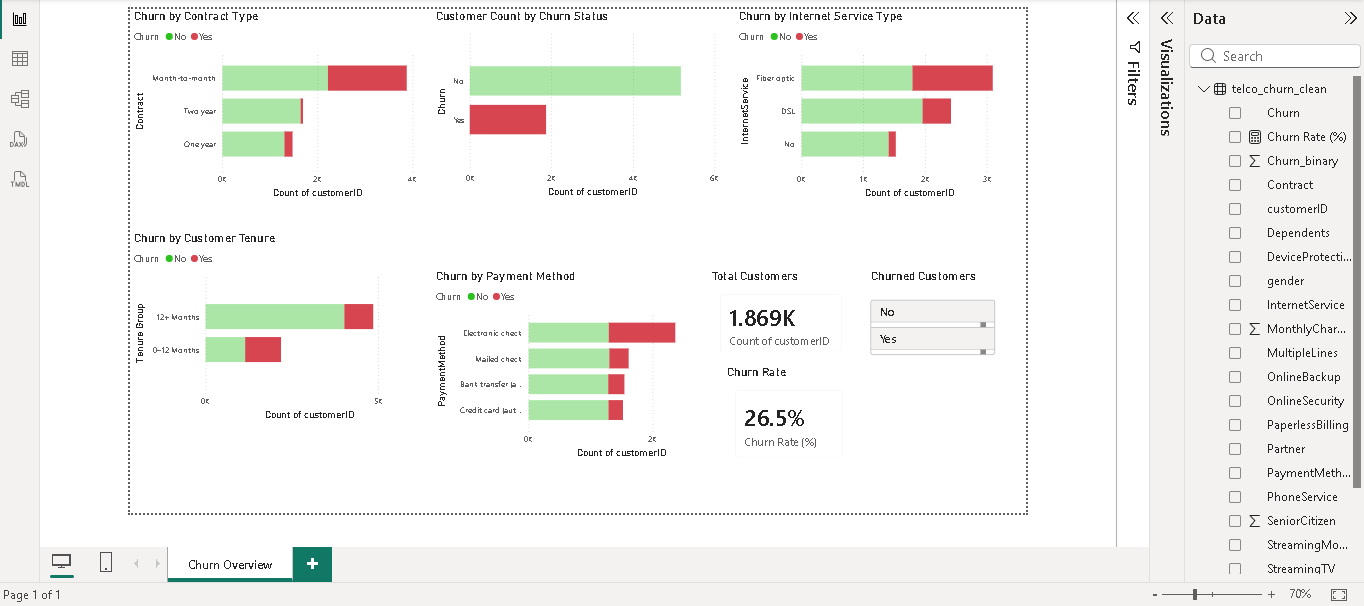

The page's visual inventory and layout, read from the dashboard file:
{"tool":"powerbi","page":{"name":"Churn Overview","canvas":[1280,720],"ordinal":0},"visuals":[{"type":"barChart","title":"Customer Count by Churn Status","fields":{"Category":["telco_churn_clean.Churn"],"Y":["CountNonNull(telco_churn_clean.customerID)"]},"box":[431.4,0,415.7,274.3],"z":0},{"type":"barChart","title":"Churn by Contract Type","fields":{"Category":["telco_churn_clean.Contract"],"Series":["telco_churn_clean.Churn"],"Y":["CountNonNull(telco_churn_clean.customerID)"]},"box":[0,0,415.7,274.3],"z":1000},{"type":"barChart","title":"Churn by Customer Tenure","fields":{"Category":["telco_churn_clean.Tenure Group"],"Y":["CountNonNull(telco_churn_clean.customerID)"],"Series":["telco_churn_clean.Churn"]},"box":[0,317.1,415.7,274.3],"z":2000},{"type":"barChart","title":"Churn by Internet Service Type","fields":{"Category":["telco_churn_clean.InternetService"],"Y":["CountNonNull(telco_churn_clean.customerID)"],"Series":["telco_churn_clean.Churn"]},"box":[864.3,0,415.7,274.3],"z":3000},{"type":"barChart","title":"Churn by Payment Method","fields":{"Category":["telco_churn_clean.PaymentMethod"],"Y":["CountNonNull(telco_churn_clean.customerID)"],"Series":["telco_churn_clean.Churn"]},"box":[431.4,371.4,415.7,274.3],"z":4000},{"type":"cardVisual","title":"Total Customers","fields":{"Data":["CountNonNull(telco_churn_clean.customerID)"]},"box":[825.7,371.4,208.6,137.1],"z":4001},{"type":"cardVisual","title":"Churned Customers","fields":{"Data":["CountNonNull(telco_churn_clean.customerID)"],"Rows":["telco_churn_clean.Churn"]},"box":[1052.9,371.4,188.6,150],"z":4002},{"type":"cardVisual","title":"Churn Rate","fields":{"Data":["telco_churn_clean.Churn Rate (%)"]},"box":[847,508,188,150],"z":4003}]}

Visuals, with their boxes on the page's 1280x720 design canvas (x1, y1, x2, y2). These are canvas units, not pixel positions in the 1364x606 screenshot, which may show the page scaled, cropped or inside an application window:
"Customer Count by Churn Status" barChart: x1=431 y1=0 x2=847 y2=274
"Churn by Contract Type" barChart: x1=0 y1=0 x2=416 y2=274
"Churn by Customer Tenure" barChart: x1=0 y1=317 x2=416 y2=591
"Churn by Internet Service Type" barChart: x1=864 y1=0 x2=1280 y2=274
"Churn by Payment Method" barChart: x1=431 y1=371 x2=847 y2=646
"Total Customers" cardVisual: x1=826 y1=371 x2=1034 y2=508
"Churned Customers" cardVisual: x1=1053 y1=371 x2=1242 y2=521
"Churn Rate" cardVisual: x1=847 y1=508 x2=1035 y2=658
